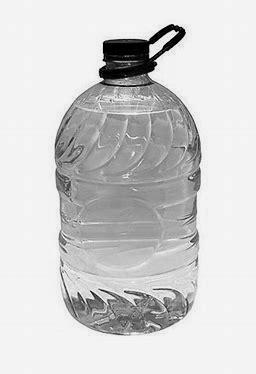bottle: (52, 18, 204, 335)
